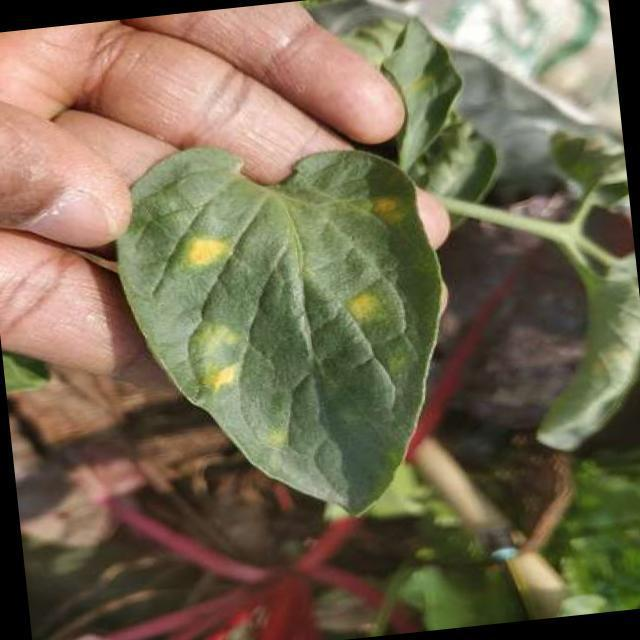Mosaic Virus: (128, 147, 460, 534)
